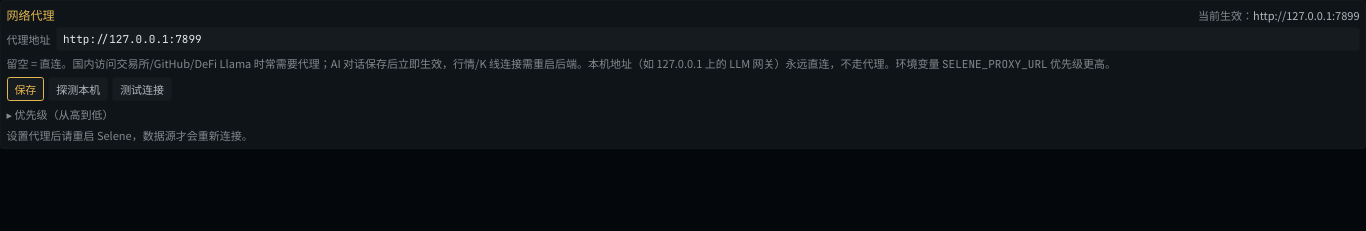
Test: NetworkSettingsPanel › shows per-target test results
The image size is (1366, 231).
Click the button "测试连接" at (142, 89), box [112,77,172,101]
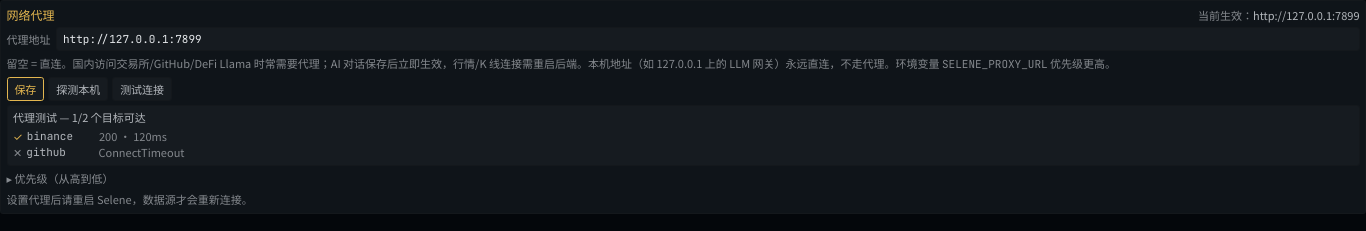
Expected: the text "代理测试 — 1/2 个目标可达" is shown, [13,109,146,125]
Expected: the text "binance" is shown, [27,129,73,143]
Expected: the text "ConnectTimeout" is shown, [98,145,184,161]
